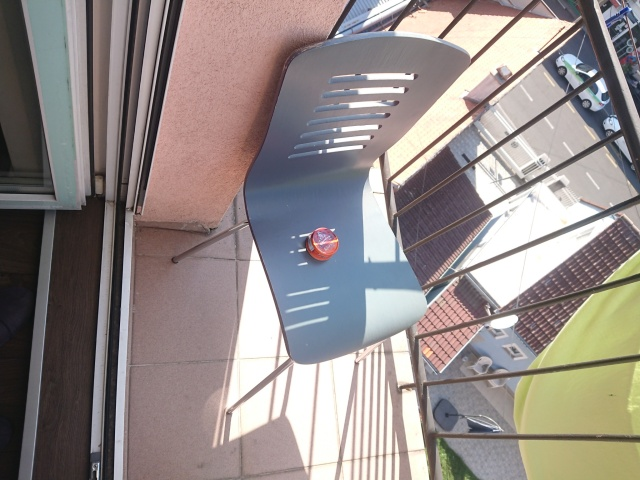Gavrilovic Pork Liver Pate 100g: (303, 225, 339, 262)
